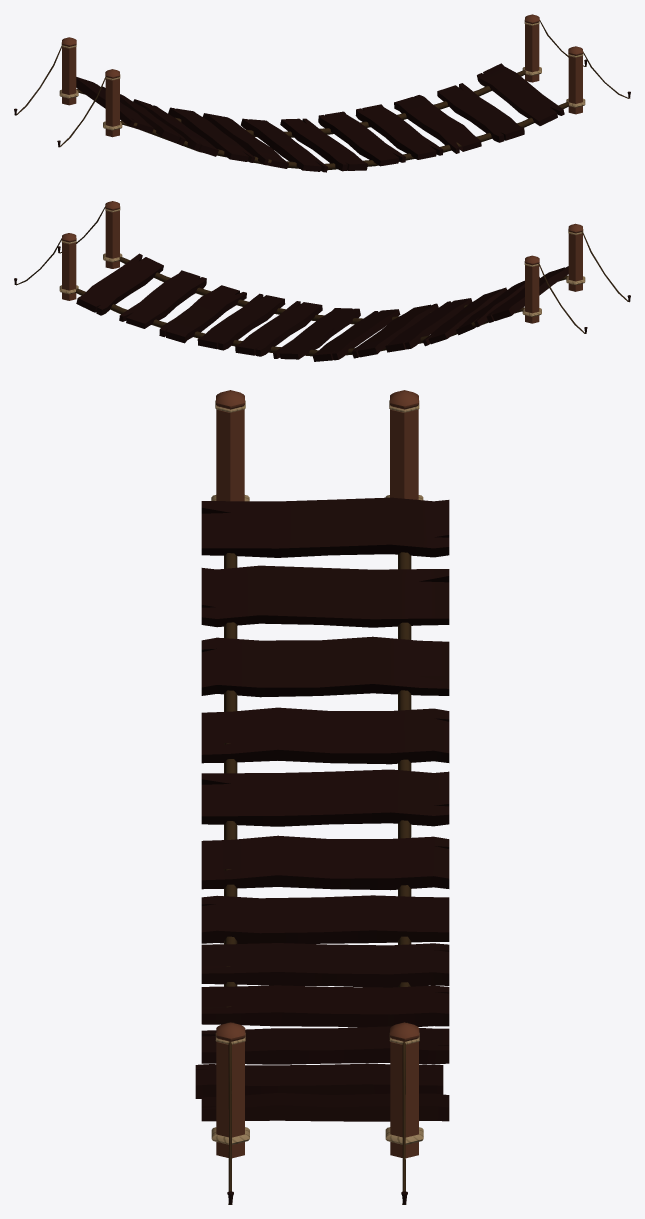
File: BridgeComplete.FBX
3 views of the same model, one above another, from view 1: azimuth 30°, elevation 25°; view 2: azimuth 150°, elevation 25°; view 3: azimuth 270°, elevation 25° (orthographic). The views are drawn at different scales.
Parts seen in each view (by area): view 1: WoodBridge, WoodBridge001, WoodBridge002, WoodBridge003, WoodBridge011, WoodBridge004, WoodBridge005, WoodBridge007, WoodBridge006, WoodBridge008, PoleBridge003, PoleBridge001 (+6 smaller); view 2: WoodBridge, WoodBridge001, WoodBridge002, WoodBridge003, WoodBridge011, WoodBridge004, WoodBridge005, WoodBridge007, WoodBridge006, WoodBridge008, PoleBridge003, PoleBridge001 (+6 smaller); view 3: WoodBridge009, WoodBridge010, WoodBridge008, WoodBridge006, WoodBridge007, WoodBridge005, WoodBridge004, WoodBridge011, WoodBridge003, WoodBridge002, WoodBridge001, WoodBridge (+6 smaller).
Part boxes in pixels (left/top/right/bottom): WoodBridge: left=477, top=63, right=564, bottom=125; WoodBridge001: left=437, top=83, right=524, bottom=142; WoodBridge002: left=394, top=95, right=481, bottom=153; WoodBridge003: left=355, top=104, right=443, bottom=159; WoodBridge011: left=318, top=111, right=405, bottom=166; WoodBridge004: left=280, top=118, right=367, bottom=171; WoodBridge005: left=241, top=118, right=327, bottom=172; WoodBridge007: left=168, top=107, right=255, bottom=162; WoodBridge006: left=202, top=113, right=288, bottom=168; WoodBridge008: left=133, top=99, right=218, bottom=156; PoleBridge003: left=103, top=69, right=122, bottom=137; PoleBridge001: left=59, top=37, right=78, bottom=105; WoodBridge: left=76, top=253, right=163, bottom=315; WoodBridge001: left=119, top=270, right=206, bottom=328; WoodBridge002: left=159, top=285, right=246, bottom=343; WoodBridge003: left=197, top=293, right=285, bottom=350; WoodBridge011: left=235, top=301, right=322, bottom=356; WoodBridge004: left=273, top=308, right=360, bottom=359; WoodBridge005: left=312, top=309, right=400, bottom=361; WoodBridge007: left=385, top=298, right=472, bottom=352; WoodBridge006: left=351, top=303, right=438, bottom=358; WoodBridge008: left=422, top=287, right=506, bottom=346; PoleBridge003: left=566, top=223, right=585, bottom=291; PoleBridge001: left=522, top=255, right=541, bottom=323; WoodBridge009: left=201, top=565, right=449, bottom=627; WoodBridge010: left=201, top=497, right=449, bottom=557; WoodBridge008: left=201, top=636, right=449, bottom=697; WoodBridge006: left=201, top=769, right=449, bottom=826; WoodBridge007: left=201, top=707, right=449, bottom=764; WoodBridge005: left=201, top=835, right=449, bottom=890; WoodBridge004: left=201, top=895, right=449, bottom=943; WoodBridge011: left=201, top=943, right=449, bottom=987; WoodBridge003: left=201, top=985, right=449, bottom=1027; WoodBridge002: left=201, top=1026, right=449, bottom=1064; WoodBridge001: left=195, top=1063, right=443, bottom=1098; WoodBridge: left=201, top=1093, right=449, bottom=1121.
Bounding box in the file's own units: 803 × 218 × 154.
